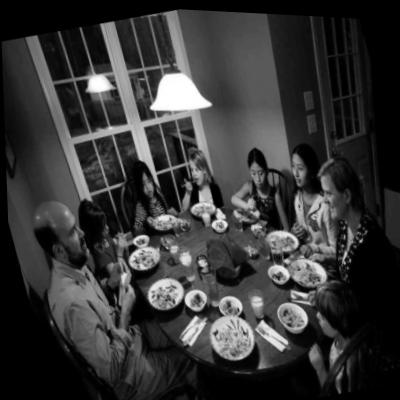happy: (317, 170, 348, 217)
netural: (54, 206, 89, 264), (286, 150, 311, 187), (246, 157, 268, 189), (136, 167, 156, 197)
surprise: (185, 155, 205, 185)
